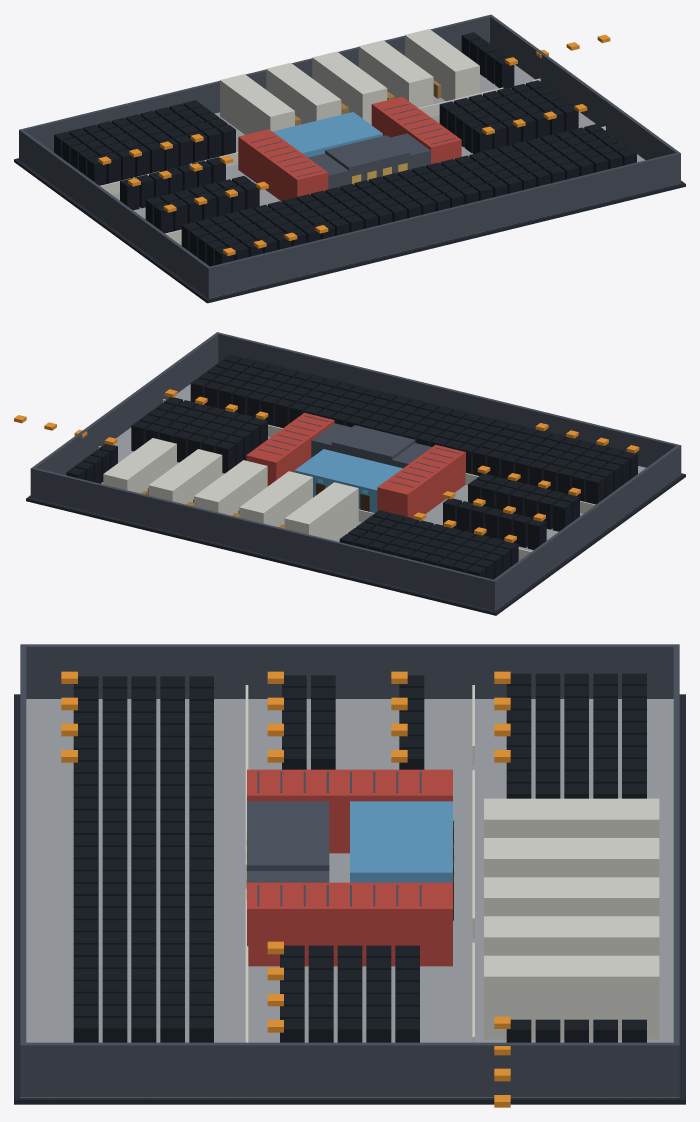
3 renders of one model, top to bottom at view 1: azimuth 30°, elevation 25°; view 2: azimuth 150°, elevation 25°; view 3: azimuth 270°, elevation 25°, orthographic. The views are drawn at different scales.
Parts seen in each view (by area): view 1: LB1_rack, LB1_core, LB1_truck, LB1_stair, LB1_slab, LB1_wash, LB1_robot, LB1_floor_tile, LB1_wall; view 2: LB1_rack, LB1_core, LB1_truck, LB1_stair, LB1_slab, LB1_wash, LB1_robot, LB1_floor_tile, LB1_wall; view 3: LB1_rack, LB1_core, LB1_floor_tile, LB1_truck, LB1_stair, LB1_slab, LB1_wash, LB1_robot, LB1_wall.
Boxes of the visible parts, x1,y1,x2,y2 form: LB1_rack: (54,32,636,266); LB1_core: (19,14,680,298); LB1_truck: (220,29,479,134); LB1_stair: (238,96,461,201); LB1_slab: (14,158,685,303); LB1_wash: (272,112,382,157); LB1_robot: (98,34,610,256); LB1_floor_tile: (48,64,676,297); LB1_wall: (100,78,605,242); LB1_rack: (66,354,637,579); LB1_core: (30,332,681,611); LB1_truck: (103,438,358,540); LB1_stair: (246,412,465,517); LB1_slab: (26,473,685,615); LB1_wash: (294,449,402,512); LB1_robot: (14,389,639,542); LB1_floor_tile: (31,384,646,610); LB1_wall: (98,399,595,560); LB1_rack: (73,673,646,1042); LB1_core: (20,644,679,1097); LB1_floor_tile: (20,699,679,1097); LB1_truck: (484,798,659,1039); LB1_stair: (247,769,452,966); LB1_slab: (14,694,685,1104); LB1_wash: (350,801,452,882); LB1_robot: (61,671,510,1107); LB1_wall: (245,685,474,1042).
Bounding box in the file's own units: 52.7 × 3.65 × 32.6.
